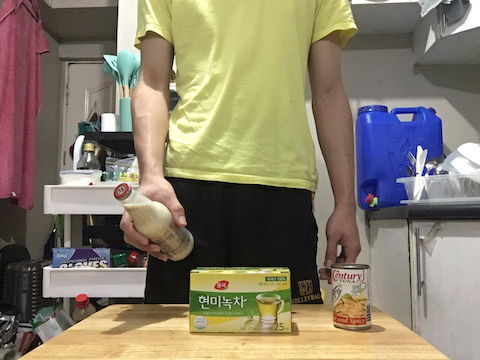bottle: (112, 181, 196, 263)
box: (186, 263, 295, 338)
can: (330, 262, 374, 332)
